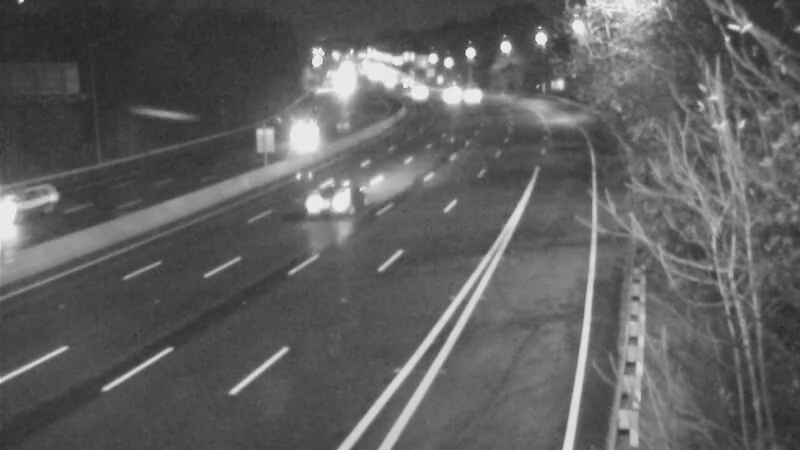vehicle: (297, 156, 377, 236), (1, 173, 65, 253), (426, 69, 476, 119), (438, 65, 488, 115), (285, 116, 335, 166)
